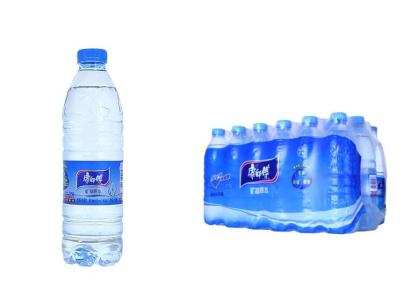amwater: (188, 102, 397, 240), (53, 41, 135, 272)
